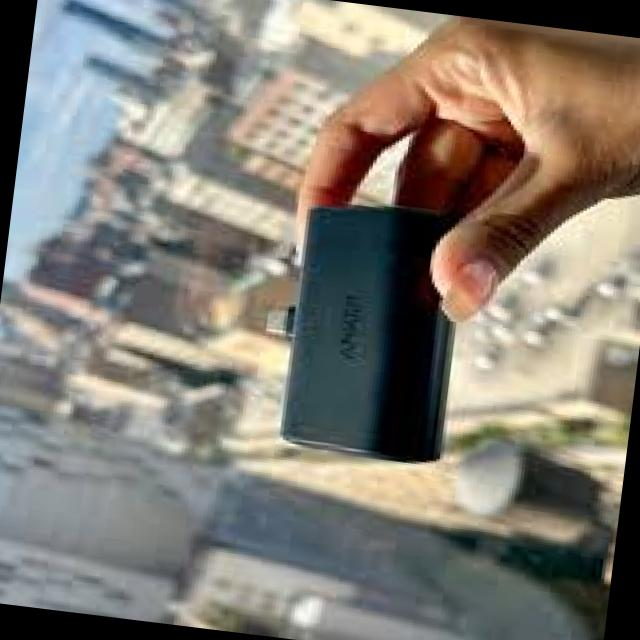power_bank: (247, 188, 471, 466)
